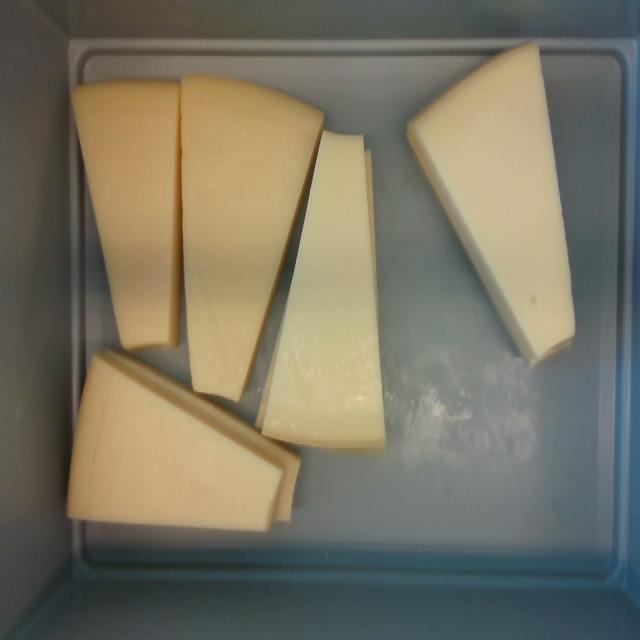Cheese: (416, 55, 581, 361), (186, 79, 322, 393), (257, 149, 383, 451), (69, 355, 279, 528), (76, 83, 174, 347)
